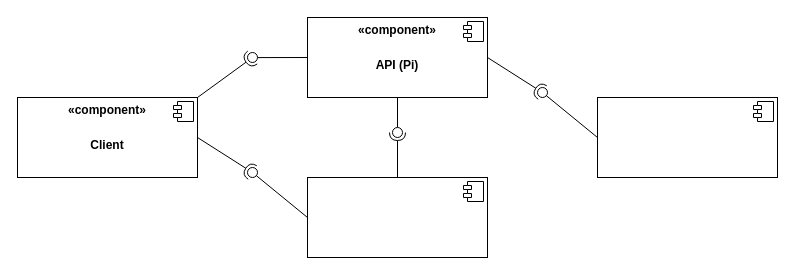
Image size: 795x275. Some labels were removed from this diagram. The box of each missing label's shape, as (x1, y1, x2, y2) in pixels:
«c omponent » Frontend: (306, 176, 488, 258)
«c omponent » TRNG (wind tunnel): (596, 96, 778, 178)
